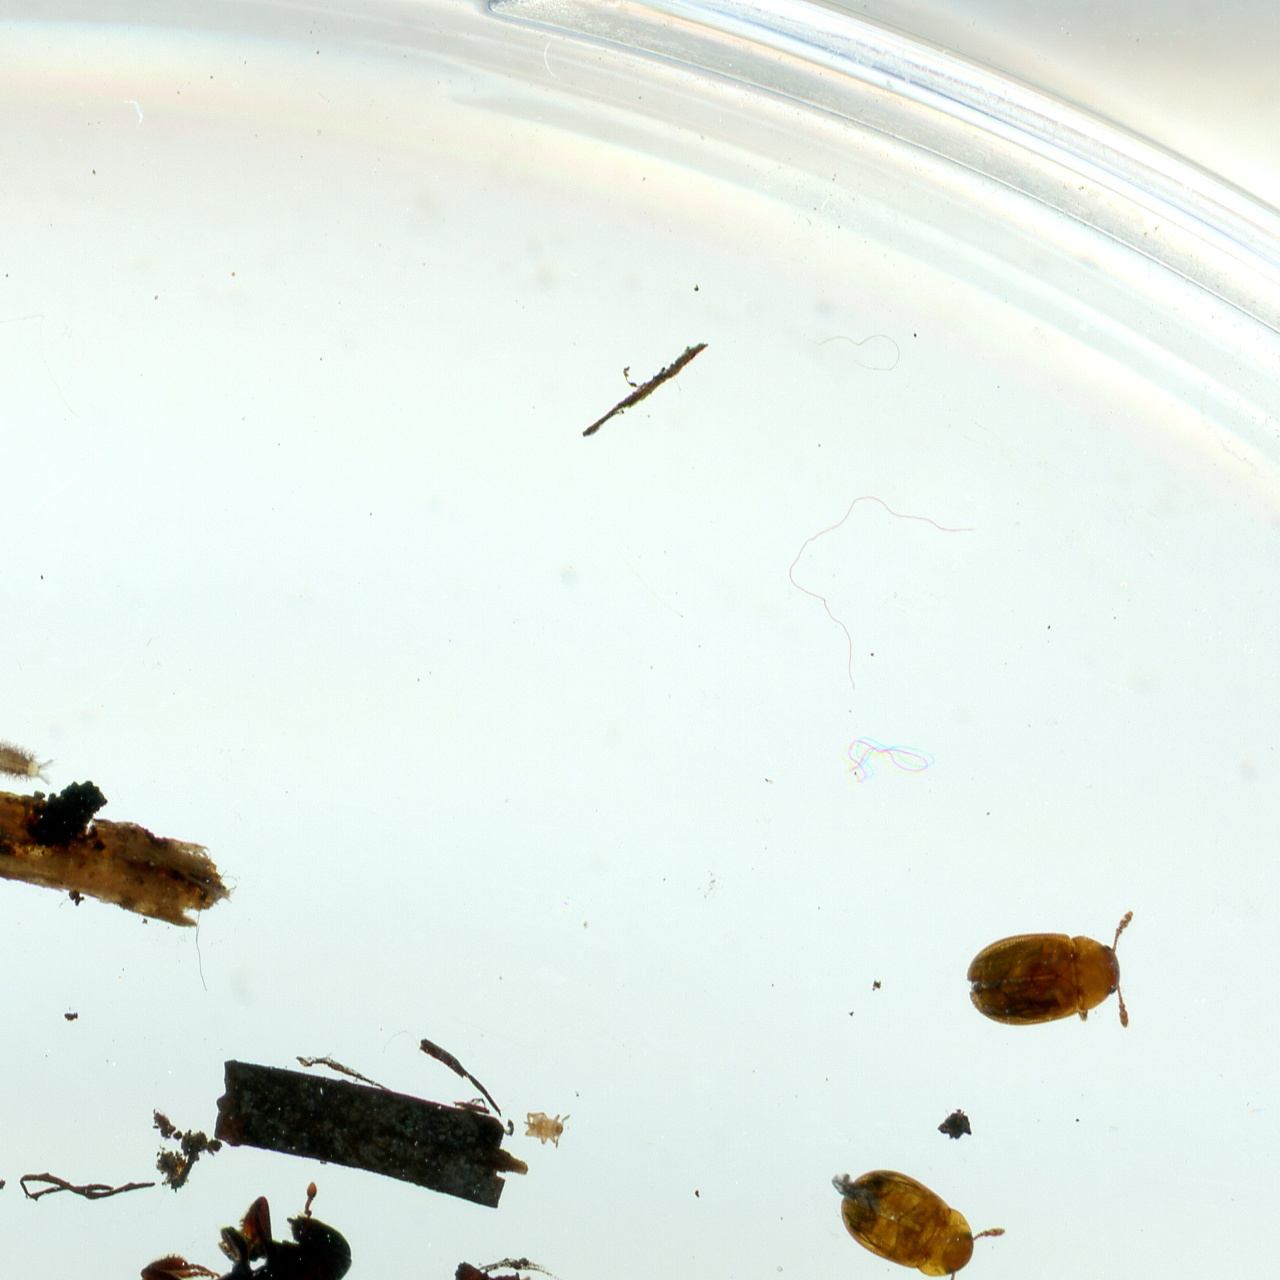arthropod: (830, 1152, 1007, 1280), (967, 912, 1145, 1032), (134, 1180, 342, 1280), (0, 730, 60, 785), (516, 1108, 572, 1150)
